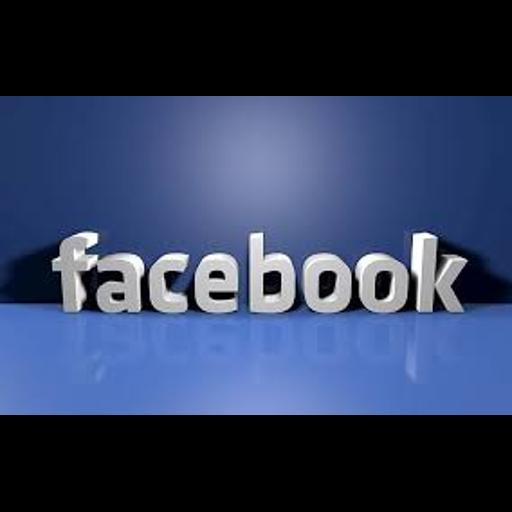Facebook: (0, 96, 512, 415)
